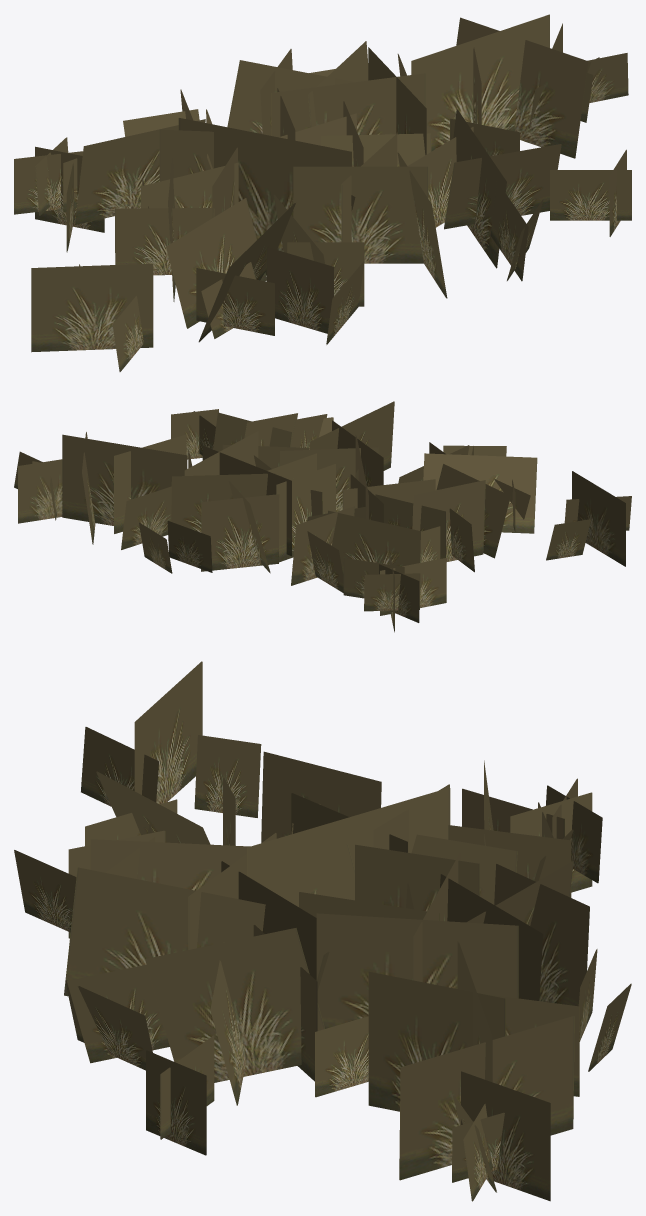
Rendered from DN_grass05c.FBX.
3 views of the same model, one above another, from view 1: azimuth 30°, elevation 25°; view 2: azimuth 150°, elevation 25°; view 3: azimuth 270°, elevation 25° (orthographic). The views are drawn at different scales.
Visible parts, largest first — view 1: DN_grass05c; view 2: DN_grass05c; view 3: DN_grass05c.
Part boxes in pixels (x1,y1,x2,y2): DN_grass05c: (14, 14, 631, 371); DN_grass05c: (14, 401, 631, 632); DN_grass05c: (14, 661, 631, 1201).
Bounding box in the file's own units: 267 × 46.48 × 157.
